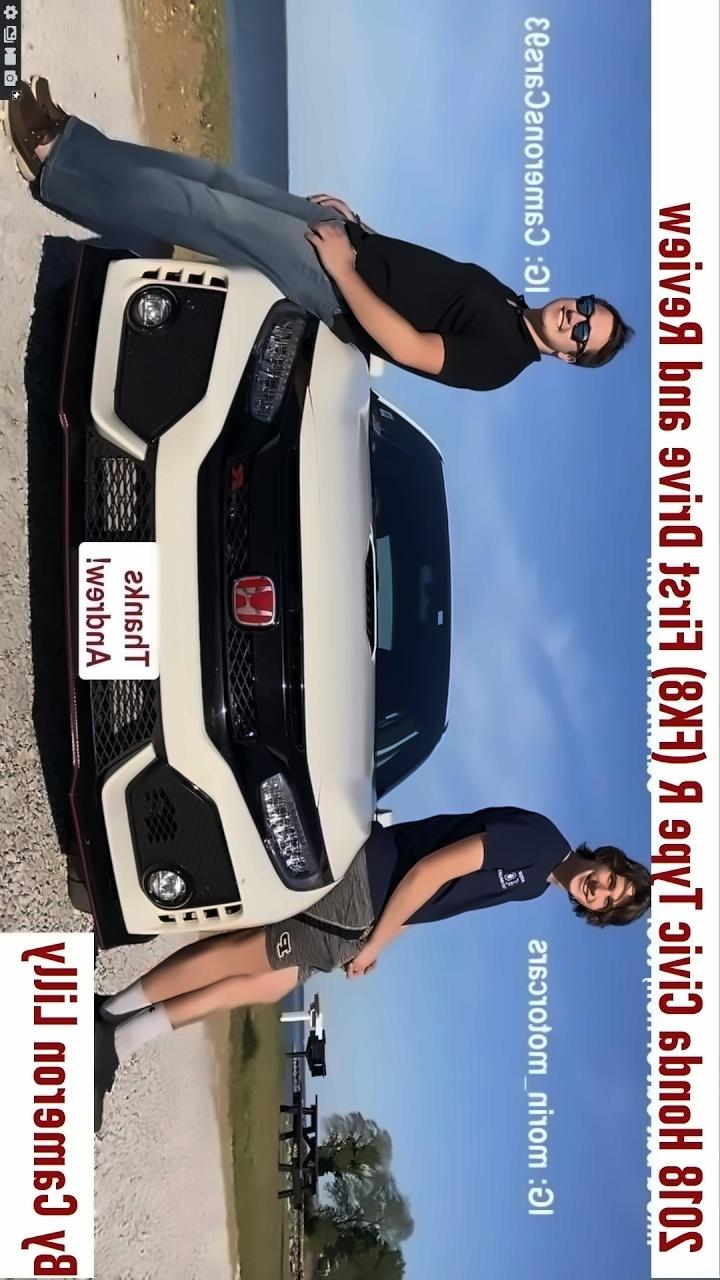Car hood: (294, 309, 386, 895)
Front bumper: (45, 235, 286, 961)
Headlight - -L-: (249, 764, 334, 898)
Headlight - -R-: (240, 294, 318, 439)
